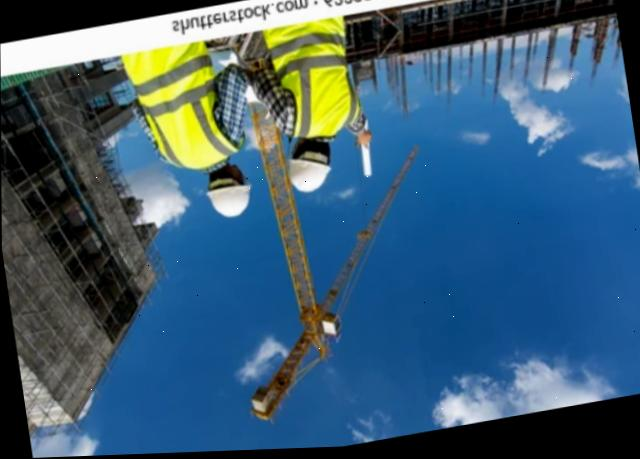helmet: (281, 151, 335, 194), (207, 177, 256, 221)
vest: (125, 35, 231, 182), (272, 12, 363, 143)
